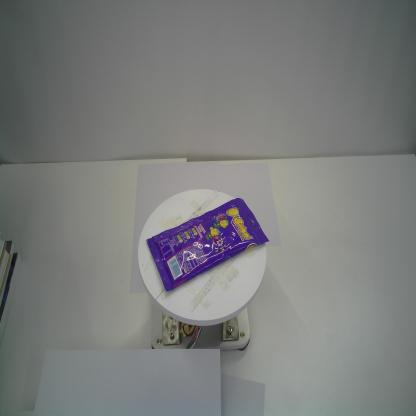Candy: (146, 198, 271, 292)
